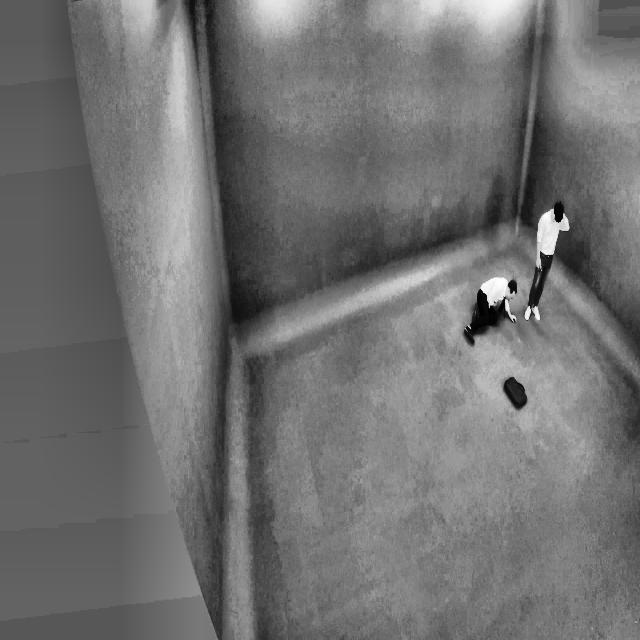assult: (454, 170, 614, 360), (464, 256, 526, 346)
